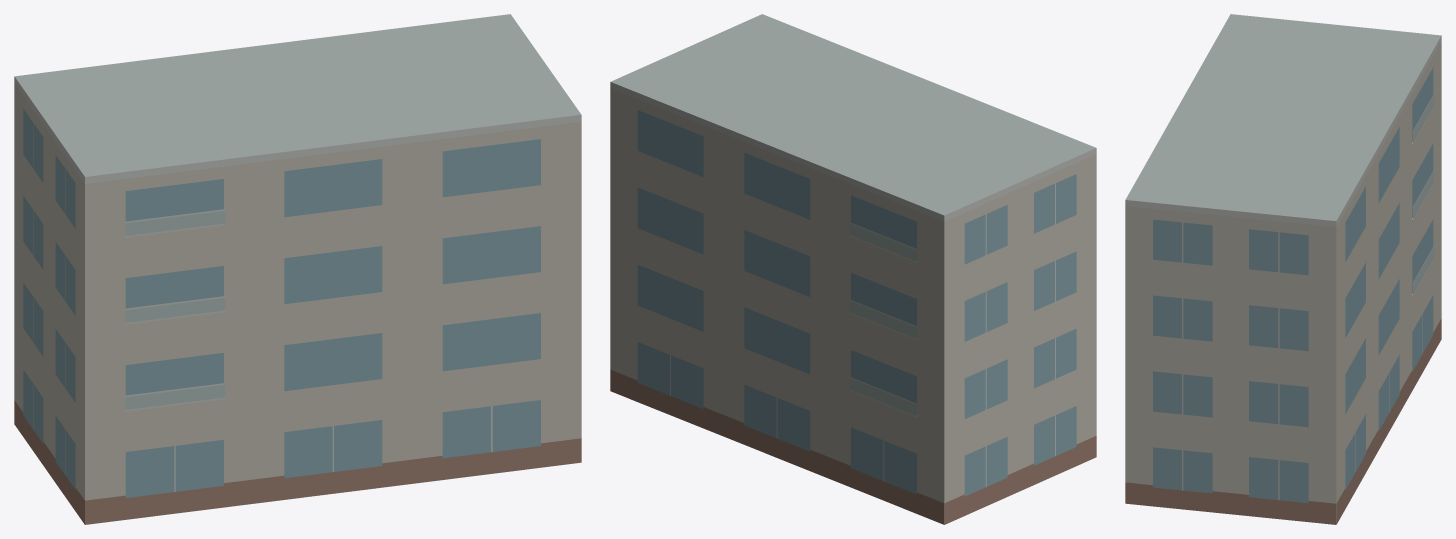
The model's file is residential-70d71cae-bc75-4ca4-8fcd-e050fb69002a.glb.
3 renders of one model, left to right at view 1: azimuth 30°, elevation 25°; view 2: azimuth 150°, elevation 25°; view 3: azimuth 270°, elevation 25°, orthographic. The views are drawn at different scales.
Parts seen in each view (by area): view 1: residential-70d71cae-bc75-4ca4-8fcd-e050fb69002a.tmp; view 2: residential-70d71cae-bc75-4ca4-8fcd-e050fb69002a.tmp; view 3: residential-70d71cae-bc75-4ca4-8fcd-e050fb69002a.tmp.
Part boxes in pixels (x1,y1,x2,y2): residential-70d71cae-bc75-4ca4-8fcd-e050fb69002a.tmp: (14,14,581,524); residential-70d71cae-bc75-4ca4-8fcd-e050fb69002a.tmp: (610,14,1096,524); residential-70d71cae-bc75-4ca4-8fcd-e050fb69002a.tmp: (1125,14,1441,524).
Size of the model in its own units: 17.85 by 12.2 by 11.52.
